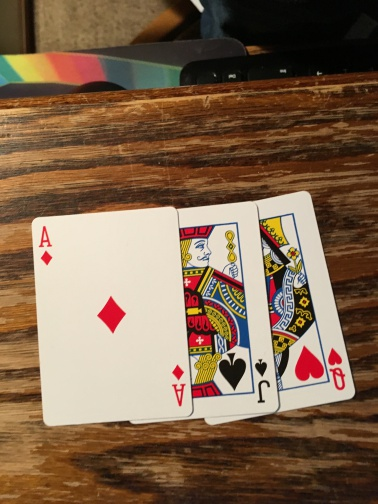ace: (32, 207, 192, 427)
jack: (181, 203, 281, 415)
queen: (265, 193, 357, 410)
